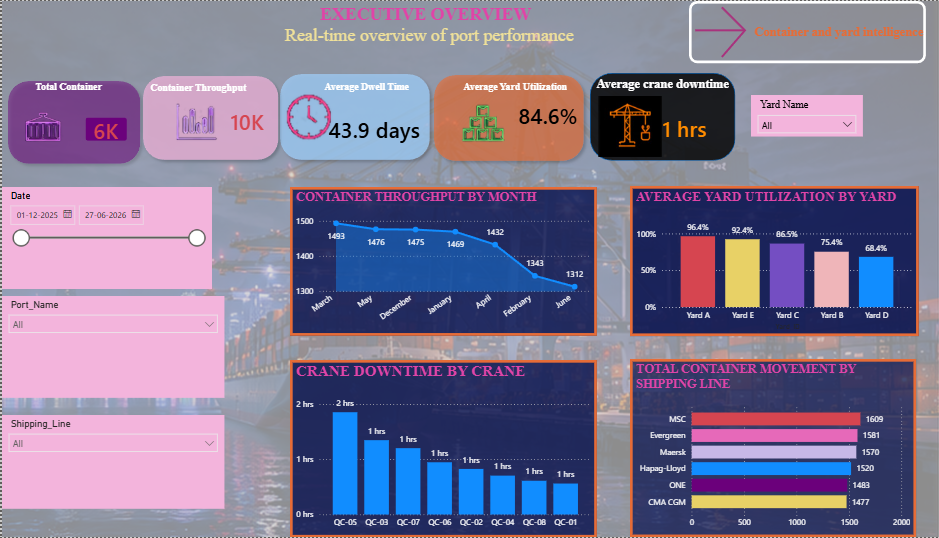

The page's visual inventory and layout, read from the dashboard file:
{"tool":"powerbi","page":{"name":"Executive Overview","canvas":[1400,800],"ordinal":0},"visuals":[{"type":"shape","box":[0,110.8,215.4,141.5],"z":0},{"type":"slicer","fields":{"Values":["portpulse_db dim_port.Port_Name"]},"box":[0,440.7,332.3,152.3],"z":1000},{"type":"slicer","fields":{"Values":["portpulse_db dim_ship.Shipping_Line"]},"box":[0,618.6,332.3,140],"z":2000},{"type":"columnChart","title":"CRANE DOWNTIME BY CRANE","fields":{"Category":["portpulse_db fact_crane_operation.Crane_ID"],"Y":["portpulse_db fact_crane_operation.Avg Crane Downtime"]},"box":[430.5,535.6,458.5,264.6],"z":3000},{"type":"lineChart","title":"CONTAINER THROUGHPUT BY MONTH","fields":{"Category":["portpulse_db dim_date.Month_Name"],"Y":["portpulse_db fact_container_movement.Container Throughput"]},"box":[430.5,278,457.6,222],"z":4000},{"type":"columnChart","title":"AVERAGE YARD UTILIZATION BY YARD","fields":{"Y":["portpulse_db fact_yard_utilization.Avg Yard Utilization"],"Category":["portpulse_db fact_yard_utilization.Yard_ID"]},"box":[937.3,276.3,430.5,223.7],"z":5000},{"type":"shape","box":[406.2,100,241.5,146.2],"z":6000},{"type":"shape","box":[201.5,103.1,220,143.1],"z":7000},{"type":"barChart","title":"TOTAL CONTAINER MOVEMENT BY SHIPPING LINE","fields":{"Category":["portpulse_db dim_ship.Shipping_Line"],"Y":["portpulse_db fact_container_movement.Total Container Movements"]},"box":[937.3,533.9,427.1,266.1],"z":8000},{"type":"textbox","box":[44.6,113.8,127.7,40],"z":9000},{"type":"image","box":[15.4,153.8,92.3,69.2],"z":10000},{"type":"cardVisual","fields":{"Data":["portpulse_db fact_container_movement.Total Container Movements"]},"box":[107.7,156.9,96.9,69.2],"z":11000},{"type":"textbox","box":[216.1,114.3,207.1,33.9],"z":12000},{"type":"image","box":[247.7,141.5,81.5,78.5],"z":13000},{"type":"cardVisual","fields":{"Data":["portpulse_db fact_container_movement.Container Throughput"]},"box":[312.3,135.4,110.8,84.6],"z":14000},{"type":"textbox","box":[475.4,113.8,152.3,43.1],"z":15000},{"type":"image","box":[406.2,127.7,104.6,90.8],"z":16000},{"type":"cardVisual","fields":{"Data":["portpulse_db fact_container_movement.Avg Dwell Time"]},"box":[458.5,146.2,209.2,87.7],"z":17000},{"type":"shape","box":[635.4,101.5,241.5,146.2],"z":18000},{"type":"textbox","box":[683.1,113.8,178.5,43.1],"z":19000},{"type":"image","box":[667.7,141.5,101.5,81.5],"z":20000},{"type":"cardVisual","fields":{"Data":["portpulse_db fact_yard_utilization.Avg Yard Utilization"]},"box":[741.5,118.5,153.8,100],"z":21000},{"type":"textbox","box":[288.9,0,668.3,92.1],"z":22000},{"type":"actionButton","box":[1025,0,353.6,92.9],"z":23000},{"type":"shape","box":[876.9,107.7,216.9,130.8],"z":24000},{"type":"textbox","title":"Average crane downtime","box":[881.5,113.8,220,33.8],"z":25000},{"type":"image","box":[887.7,141.5,98.5,90.8],"z":26000},{"type":"cardVisual","fields":{"Data":["portpulse_db fact_crane_operation.Avg Crane Downtime"]},"box":[956.9,147.7,136.9,80],"z":27000},{"type":"slicer","fields":{"Values":["portpulse_db fact_yard_utilization.Yard_ID"]},"box":[1118.2,140.9,166.7,62.1],"z":28000},{"type":"slicer","fields":{"Values":["portpulse_db dim_date.Date_Time"]},"box":[0,278,311.9,150.8],"z":29000}]}

Visuals, with their boxes in screenshot pixels (x1, y1, x2, y2), scaled from the page's 1400x800 canvas onto the 939x538 screenshot:
shape: (0, 75, 144, 170)
slicer - portpulse_db dim_port.Port_Name: (0, 296, 223, 399)
slicer - portpulse_db dim_ship.Shipping_Line: (0, 416, 223, 510)
"CRANE DOWNTIME BY CRANE" columnChart: (289, 360, 596, 537)
"CONTAINER THROUGHPUT BY MONTH" lineChart: (289, 187, 596, 336)
"AVERAGE YARD UTILIZATION BY YARD" columnChart: (629, 186, 917, 336)
shape: (272, 67, 434, 166)
shape: (135, 69, 283, 166)
"TOTAL CONTAINER MOVEMENT BY SHIPPING LINE" barChart: (629, 359, 915, 537)
textbox: (30, 77, 116, 103)
image: (10, 103, 72, 150)
cardVisual - portpulse_db fact_container_movement.Total Container Movements: (72, 106, 137, 152)
textbox: (145, 77, 284, 100)
image: (166, 95, 221, 148)
cardVisual - portpulse_db fact_container_movement.Container Throughput: (209, 91, 284, 148)
textbox: (319, 77, 421, 106)
image: (272, 86, 343, 147)
cardVisual - portpulse_db fact_container_movement.Avg Dwell Time: (308, 98, 448, 157)
shape: (426, 68, 588, 167)
textbox: (458, 77, 578, 106)
image: (448, 95, 516, 150)
cardVisual - portpulse_db fact_yard_utilization.Avg Yard Utilization: (497, 80, 600, 147)
textbox: (194, 0, 642, 62)
actionButton: (687, 0, 925, 62)
shape: (588, 72, 734, 160)
"Average crane downtime" textbox: (591, 77, 739, 99)
image: (595, 95, 661, 156)
cardVisual - portpulse_db fact_crane_operation.Avg Crane Downtime: (642, 99, 734, 153)
slicer - portpulse_db fact_yard_utilization.Yard_ID: (750, 95, 862, 137)
slicer - portpulse_db dim_date.Date_Time: (0, 187, 209, 288)
